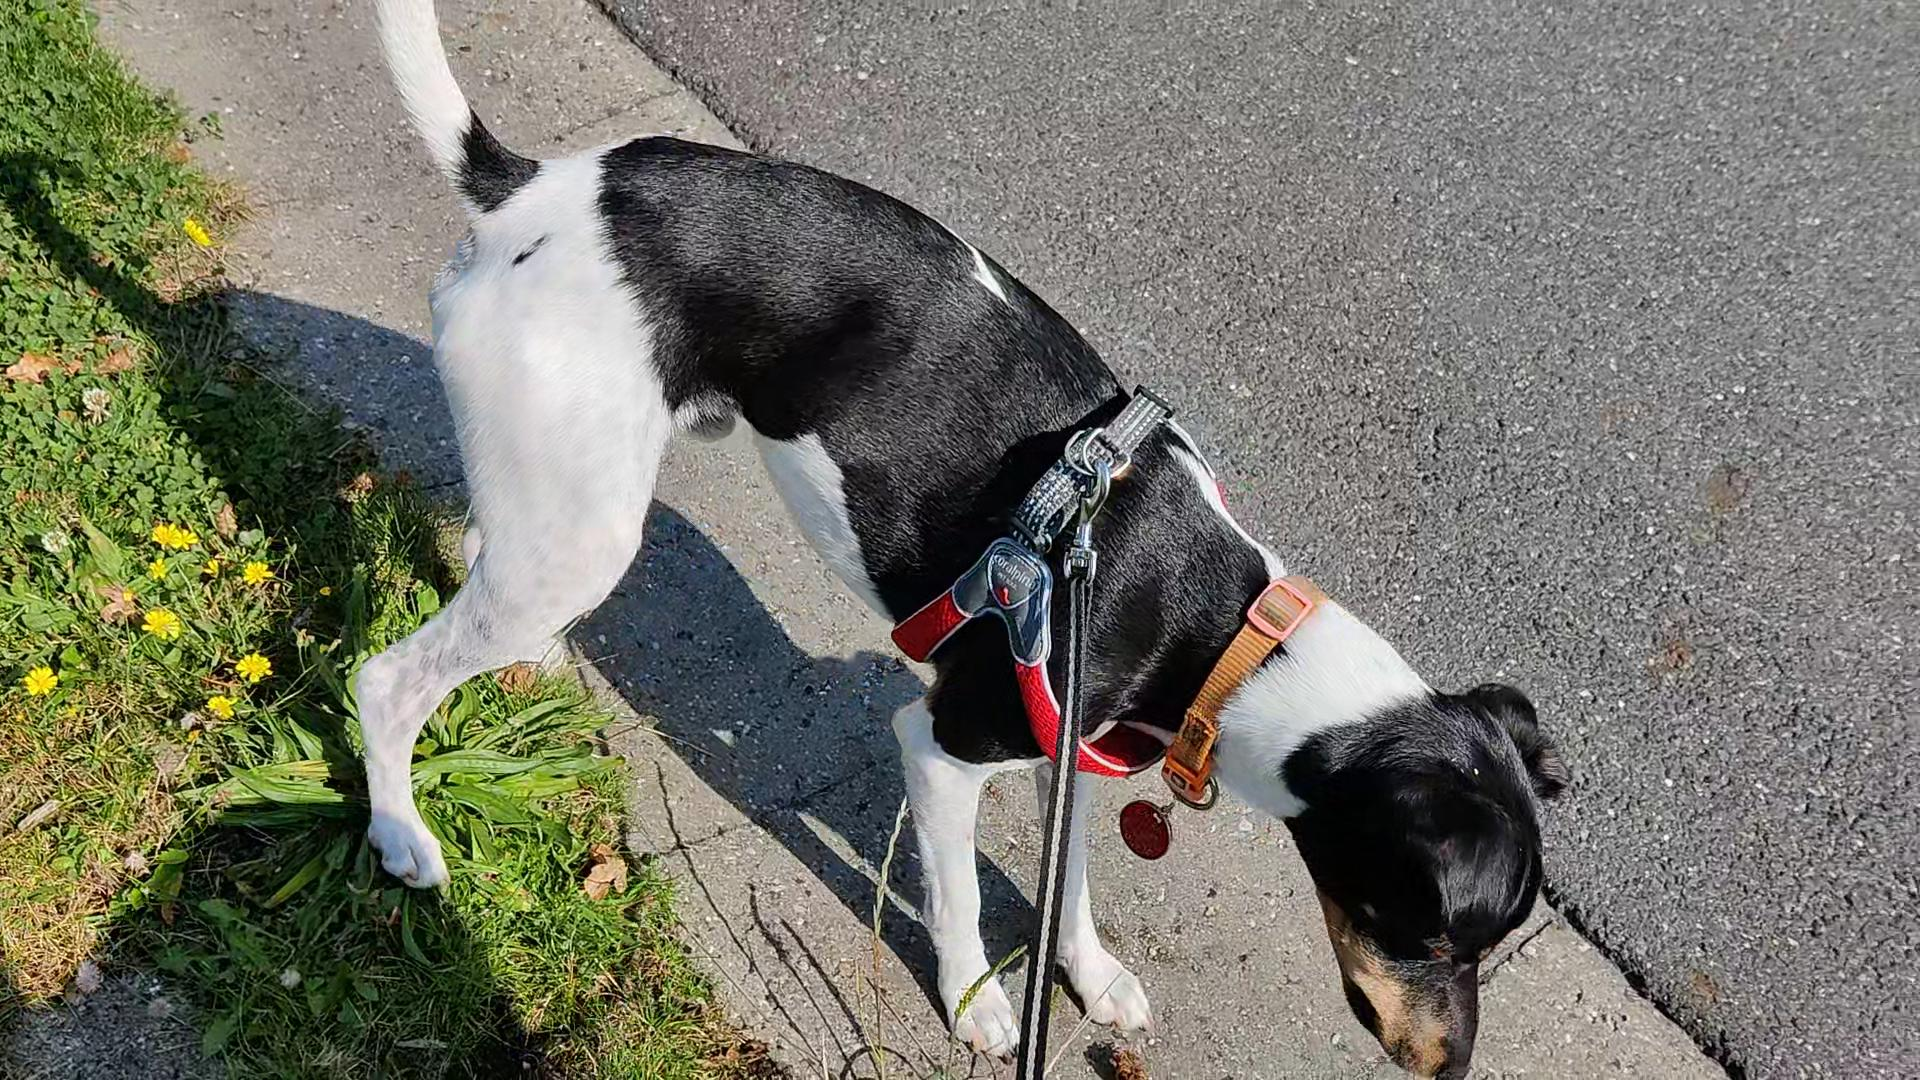Dog: (339, 0, 1575, 1079)
